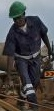gloves: (47, 52, 54, 61), (0, 107, 5, 111)
hard-hat: (7, 1, 25, 18)
mask: (12, 16, 24, 27)
ppe-suit: (1, 0, 54, 111)
vest: (0, 57, 14, 94)
